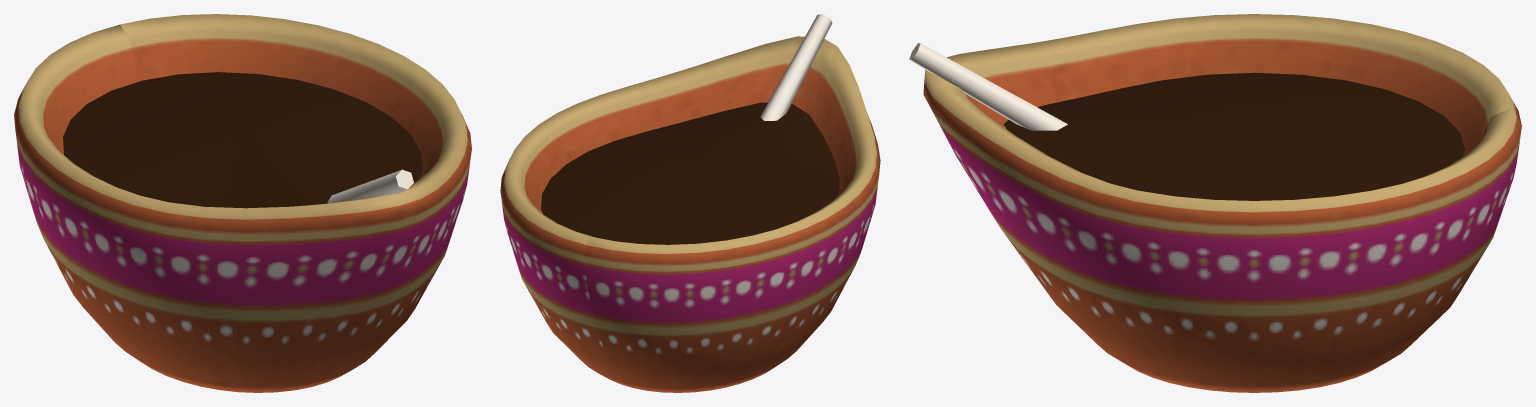
The model's file is diwali-diya-terracotta.glb.
The picture shows the model from 3 angles, left to right: view 1: azimuth 30°, elevation 25°; view 2: azimuth 150°, elevation 25°; view 3: azimuth 270°, elevation 25°; orthographic projection. The views are drawn at different scales.
Parts seen in each view (by area): view 1: Diya, Oil, Wick; view 2: Diya, Oil, Wick; view 3: Diya, Oil, Wick.
Part boxes in pixels (x1=…): Diya: x1=14, y1=14, x2=471, y2=392; Oil: x1=63, y1=72, x2=422, y2=208; Wick: x1=327, y1=169, x2=413, y2=203; Diya: x1=500, y1=36, x2=880, y2=392; Oil: x1=541, y1=102, x2=839, y2=244; Wick: x1=760, y1=14, x2=832, y2=120; Diya: x1=923, y1=14, x2=1521, y2=392; Oil: x1=1004, y1=72, x2=1465, y2=200; Wick: x1=909, y1=43, x2=1067, y2=130.
Size of the model in its own units: 0.0894 by 0.0638 by 0.1191.
3 materials, 1 textured.
